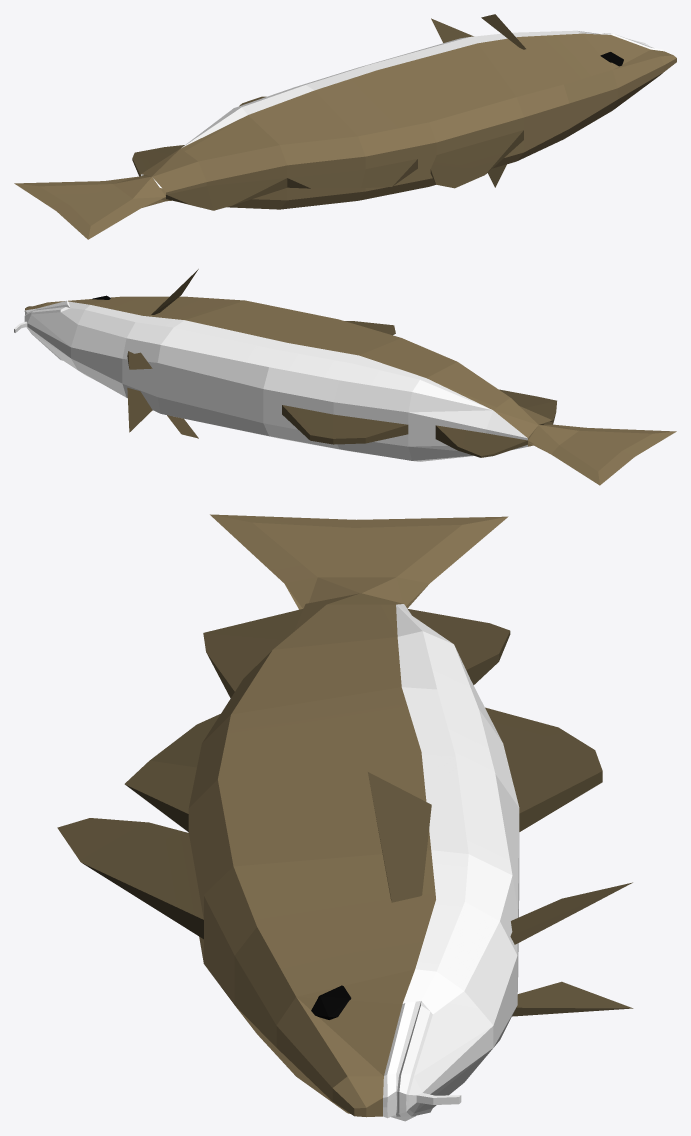
File: Cod.glb
3 renders of one model, top to bottom at view 1: azimuth 30°, elevation 25°; view 2: azimuth 150°, elevation 25°; view 3: azimuth 270°, elevation 25°, orthographic. The views are drawn at different scales.
Parts seen in each view (by area): view 1: Cod; view 2: Cod; view 3: Cod.
Boxes of the visible parts, <box> form: Cod: <box>14,14,676,239</box>; Cod: <box>14,269,676,485</box>; Cod: <box>57,514,633,1121</box>.
Bounding box in the file's own units: 0.7699 × 0.2046 × 0.3138.
Materials: 1 (1 with a texture image).
